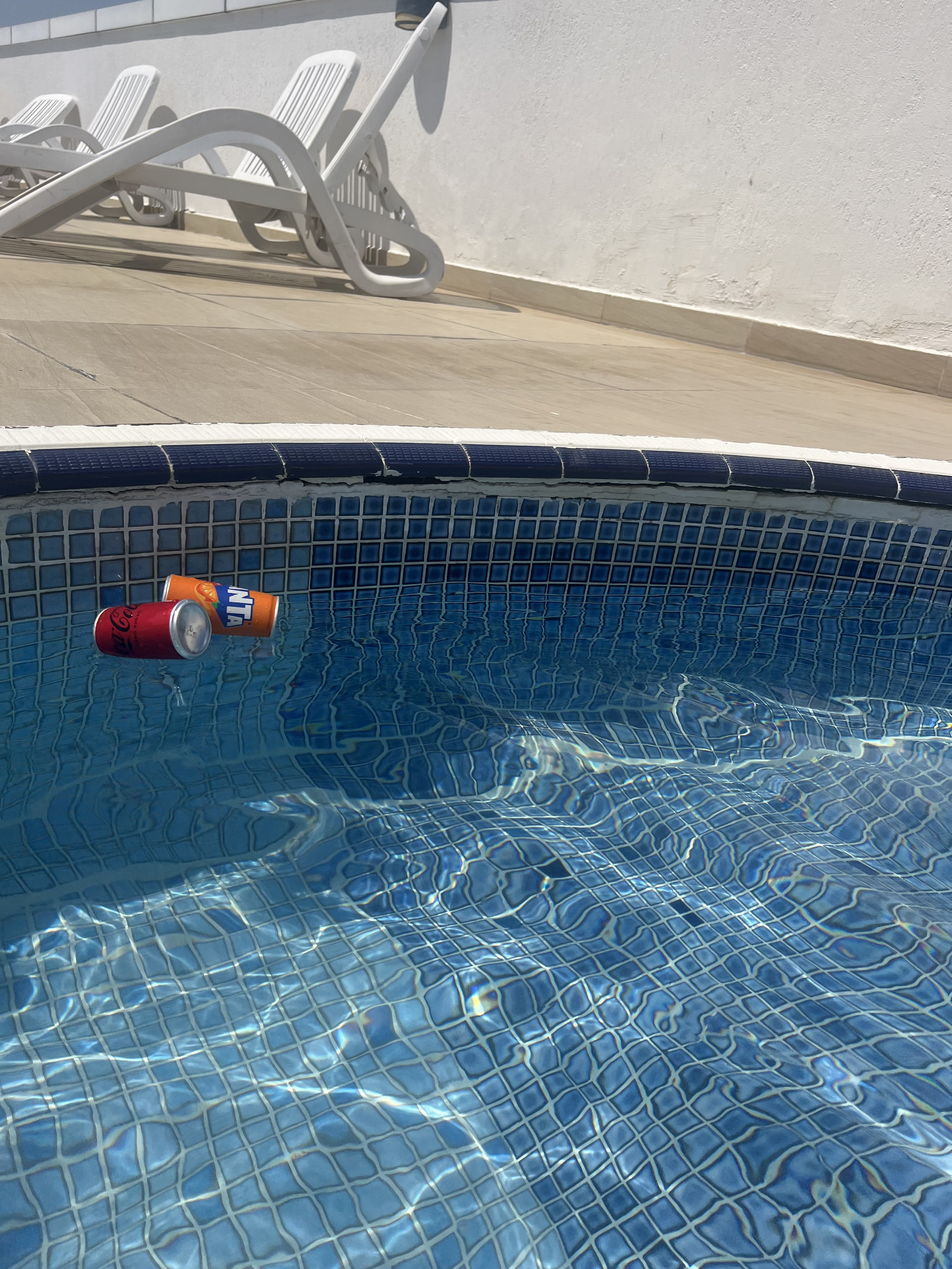debris: (90, 576, 209, 672), (160, 563, 282, 650)
